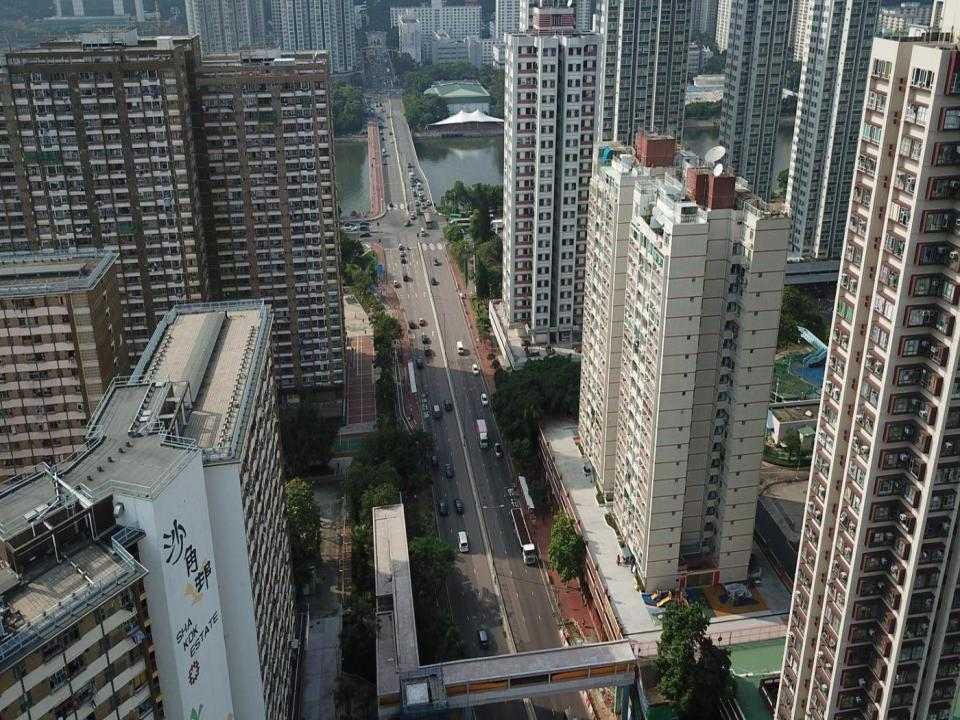bus: (455, 216, 487, 235), (469, 213, 494, 225), (422, 211, 432, 229), (449, 213, 464, 222), (381, 147, 386, 157)
car: (438, 499, 449, 516), (442, 397, 454, 412), (453, 498, 464, 514), (444, 462, 454, 479), (493, 442, 503, 458), (432, 403, 442, 418), (480, 392, 489, 407), (423, 344, 431, 358), (430, 454, 439, 466), (471, 362, 479, 375), (359, 230, 371, 238), (416, 356, 423, 369), (343, 221, 354, 229), (348, 224, 358, 232), (408, 319, 415, 330), (421, 334, 428, 344), (430, 276, 437, 286), (398, 249, 406, 257), (344, 226, 352, 234), (336, 218, 344, 226), (392, 278, 399, 287), (402, 272, 408, 282), (433, 256, 439, 266), (416, 181, 422, 191), (360, 224, 370, 230), (360, 220, 370, 226), (458, 228, 466, 235), (419, 316, 424, 326), (404, 219, 411, 226), (414, 199, 420, 207), (409, 176, 415, 184), (388, 200, 394, 208), (416, 207, 421, 216), (410, 180, 416, 187), (400, 256, 405, 264), (398, 242, 403, 250), (410, 212, 415, 220), (421, 201, 426, 209), (426, 198, 431, 206), (419, 194, 424, 202), (418, 189, 423, 197), (412, 190, 418, 196), (407, 162, 412, 168), (382, 160, 388, 165), (390, 137, 394, 144), (380, 135, 384, 141), (380, 129, 384, 134), (389, 130, 392, 135)
truck: (510, 506, 536, 565), (475, 417, 489, 448), (449, 218, 464, 228), (489, 219, 503, 229), (408, 170, 414, 180), (377, 120, 382, 130)
van: (456, 529, 469, 552), (476, 628, 489, 649), (456, 341, 464, 355), (420, 227, 425, 236)
